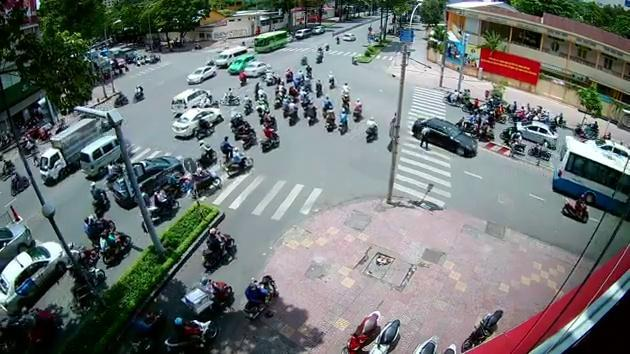xe buyt: (550, 134, 630, 220)
xe hoi: (0, 240, 66, 315), (411, 116, 477, 158), (171, 106, 222, 137), (515, 120, 556, 147), (171, 86, 211, 113), (226, 53, 254, 73), (186, 66, 214, 83), (244, 60, 270, 76)
xe may: (201, 226, 236, 269), (98, 228, 130, 265), (224, 145, 252, 178), (560, 192, 588, 223), (196, 165, 221, 192), (259, 123, 280, 152), (364, 116, 378, 144), (323, 105, 337, 131), (286, 97, 297, 127), (336, 106, 347, 134), (351, 97, 362, 122)
xe tai: (39, 115, 97, 181)
xe van: (79, 135, 129, 176), (213, 46, 247, 66)
